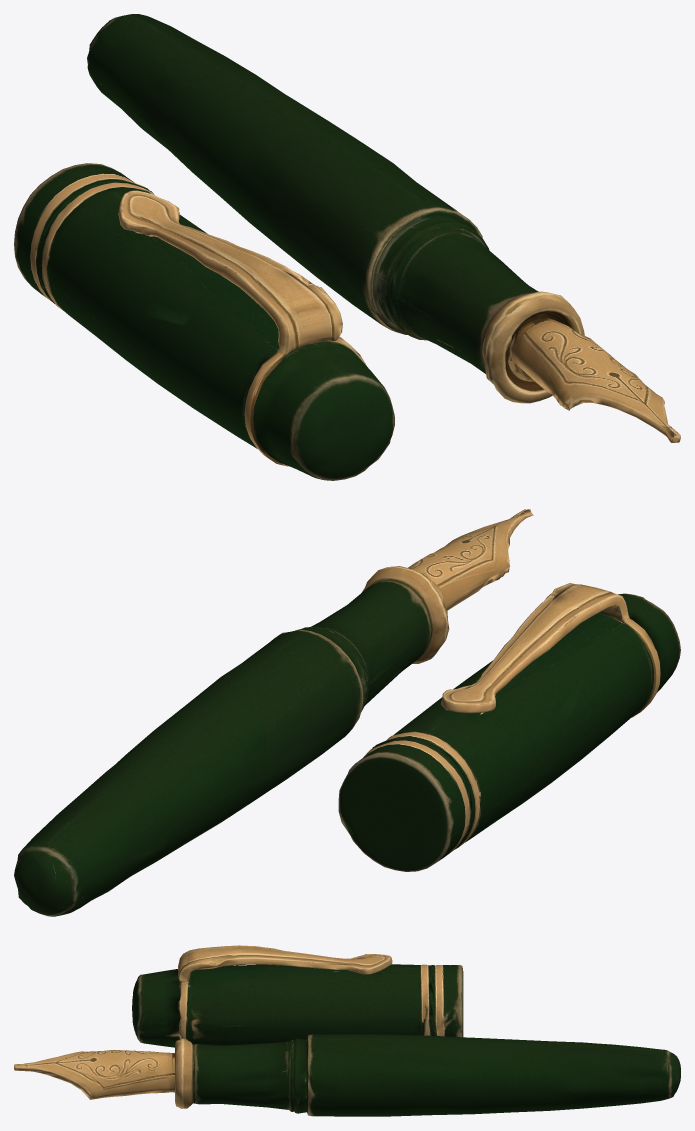
File: emerald_quill.glb
3 renders of one model, top to bottom at view 1: azimuth 30°, elevation 25°; view 2: azimuth 150°, elevation 25°; view 3: azimuth 270°, elevation 25°, orthographic. The views are drawn at different scales.
Bounding box in the file's own units: 0.3452 × 0.1558 × 0.9546.
1 material, 1 textured.
